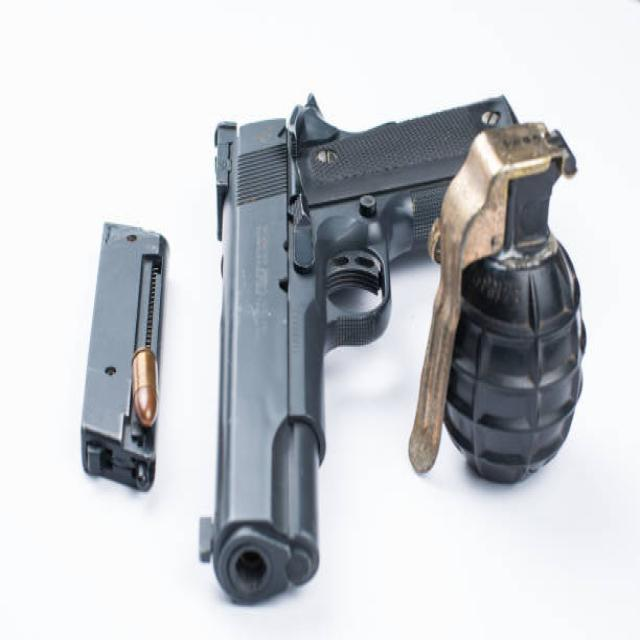grenade: (397, 112, 597, 497)
